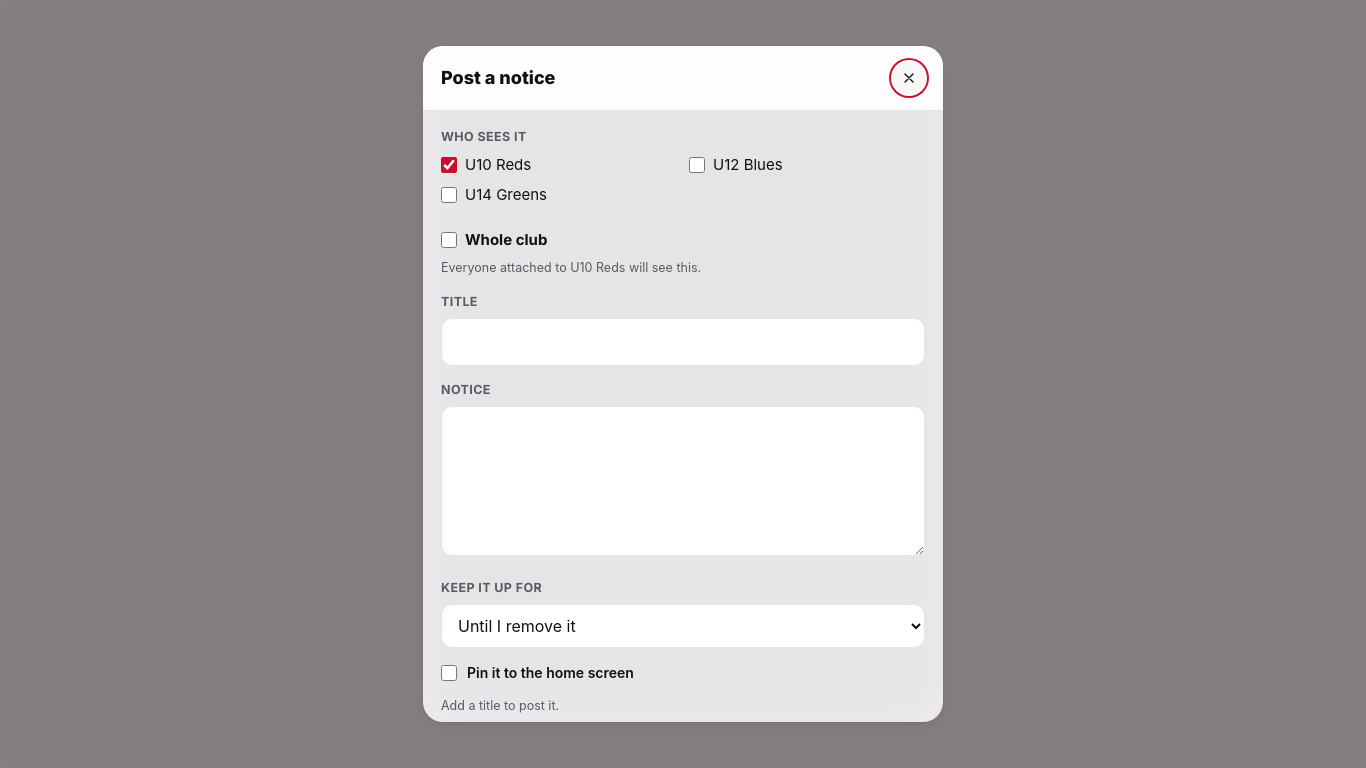
it: who a notice is sent to › refuses to post with nothing chosen, and says so
Click the checkbox labelled "U10 Reds".
click(449, 165)  # box [441,157,457,173]
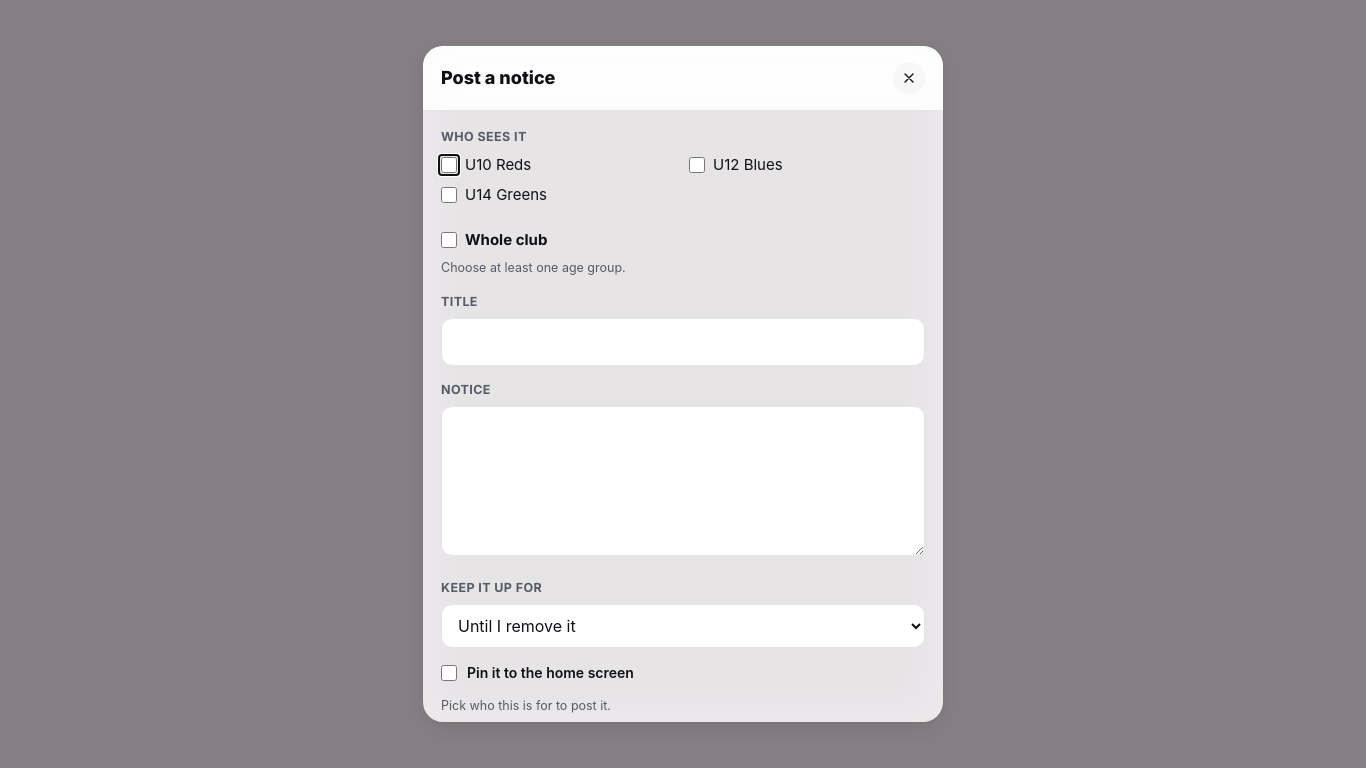
Type "Kit collection" into the field labelled "Title".
click(683, 342); type("Kit collection")  # box [441,318,925,366]
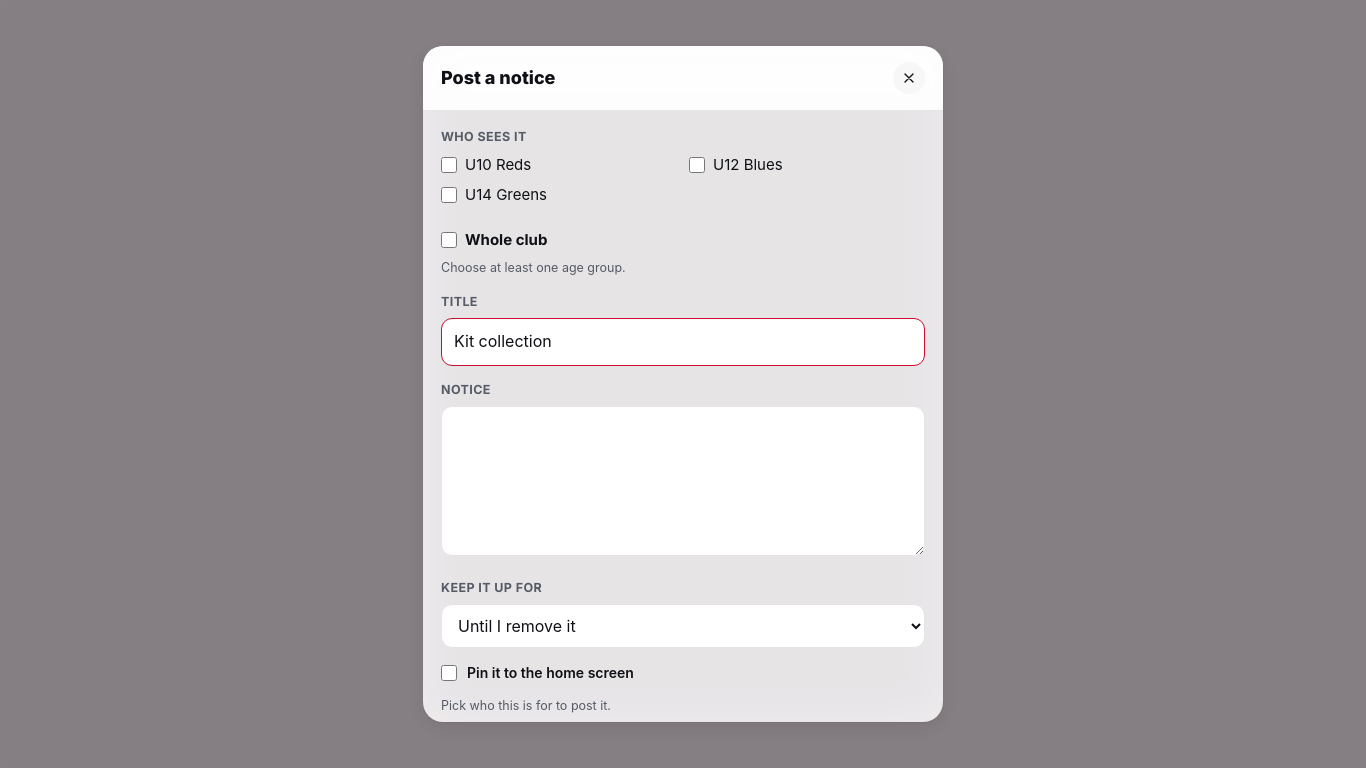
Type "Bring your kit on Saturday." into the text box labelled "Notice".
click(683, 481); type("Bring your kit on Saturday.")  # box [441,406,925,556]
(page scrolled)
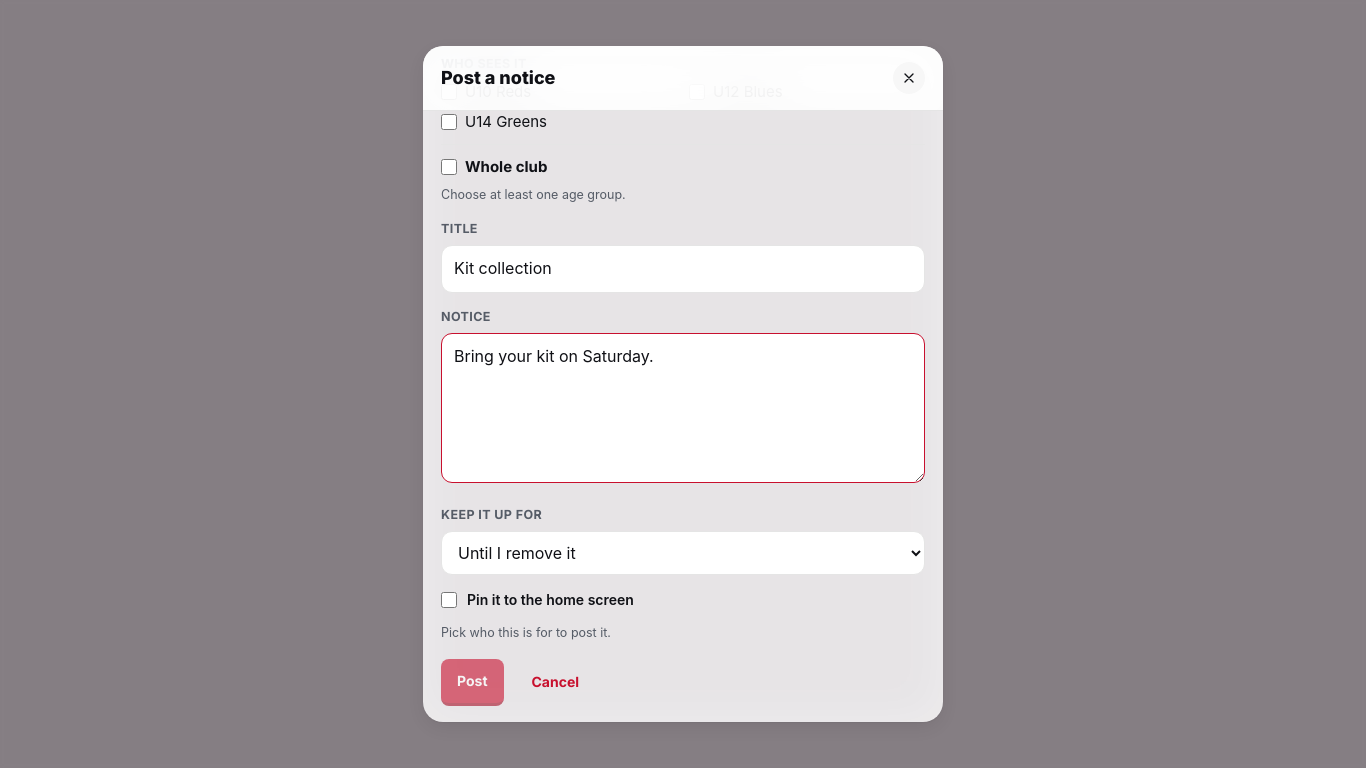
Now the button "Post" is disabled, box [441,659,504,706]
